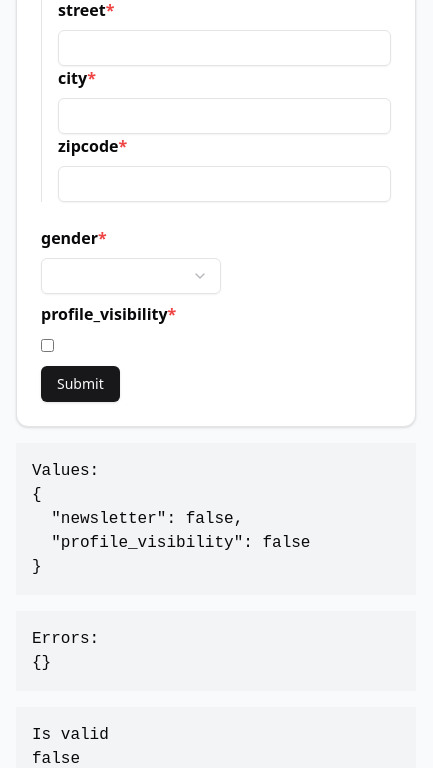
Test case: Schema A › Error warnings and handling - Schema A › Required fields
This screenshot has width=433, height=768.
(page scrolled)
Click the button with class "inline-flex". click: {"x": 81, "y": 384}
box: x1=41 y1=366 x2=120 y2=402
(page scrolled)
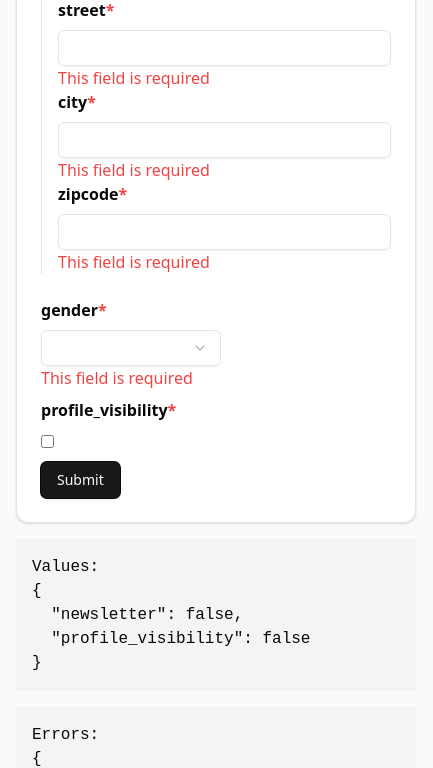
Result: the 1st text "This field is required" is shown at x1=58 y1=67 x2=210 y2=89
Result: the 2nd text "This field is required" is shown at x1=58 y1=159 x2=210 y2=181
Result: the 3rd text "This field is required" is shown at x1=58 y1=251 x2=210 y2=273
